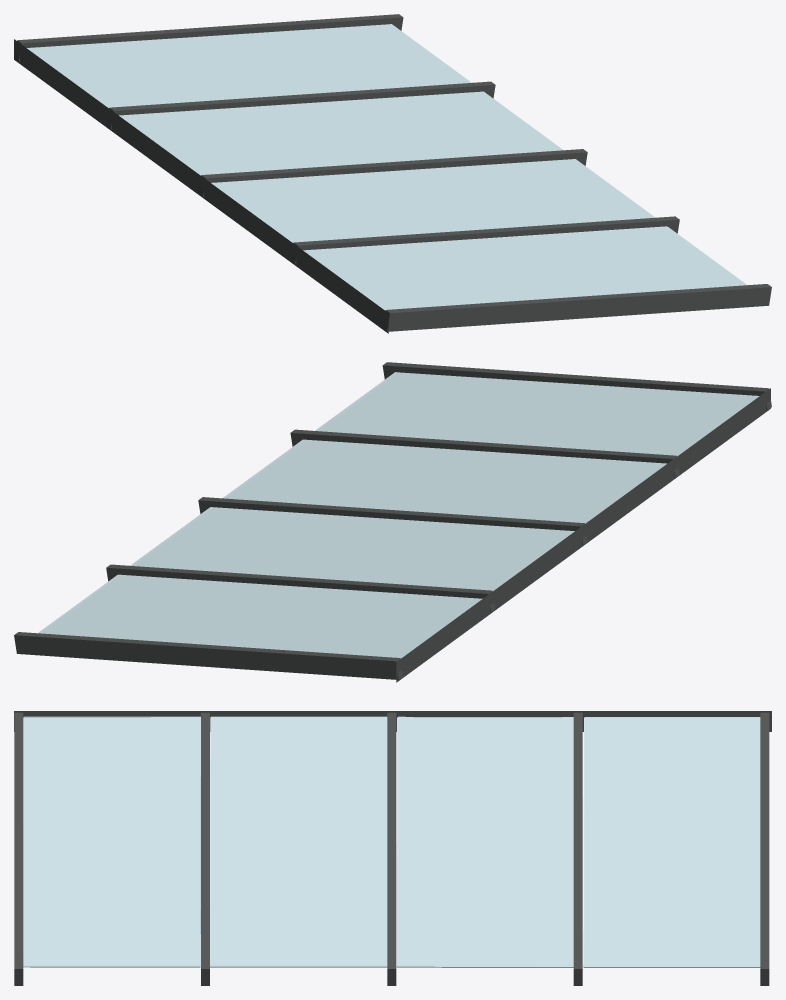
File: slopglassGREY.glb
The picture shows the model from 3 angles, top to bottom: view 1: azimuth 30°, elevation 25°; view 2: azimuth 150°, elevation 25°; view 3: azimuth 270°, elevation 25°; orthographic projection.
Parts seen in each view (by area): view 1: roof, Rafter, Plane.001; view 2: roof, Rafter, Plane.001; view 3: roof, Rafter, Plane.001.
Part boxes in pixels (x1=…): roof: x1=27, y1=24, x2=747, y2=310; Rafter: x1=14, y1=14, x2=771, y2=331; Plane.001: x1=14, y1=39, x2=388, y2=333; roof: x1=38, y1=372, x2=759, y2=658; Rafter: x1=14, y1=362, x2=771, y2=679; Plane.001: x1=396, y1=388, x2=770, y2=682; roof: x1=23, y1=716, x2=760, y2=967; Rafter: x1=14, y1=712, x2=769, y2=985; Plane.001: x1=14, y1=711, x2=771, y2=731.
Bounding box in the file's own units: 2.97 × 0.6318 × 5.
